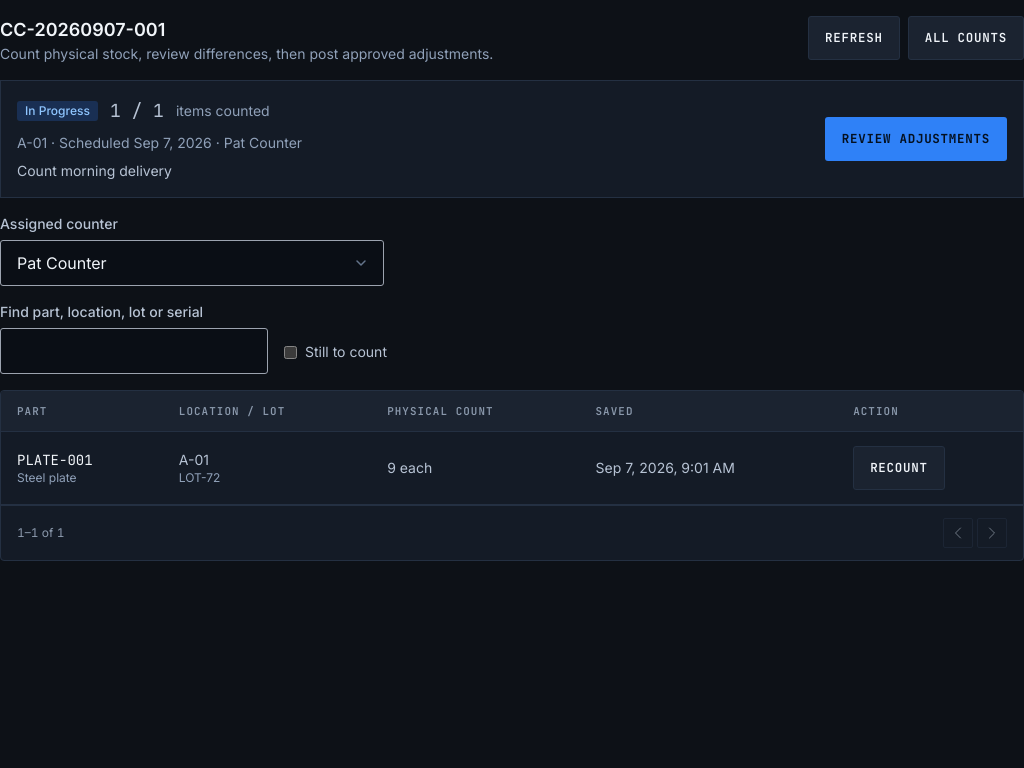
Test: requires explicit variance review and returns to fresh data when stock changes
This screenshot has width=1024, height=768.
Click the button "Review adjustments" at (916, 139), box [825,117,1007,161]
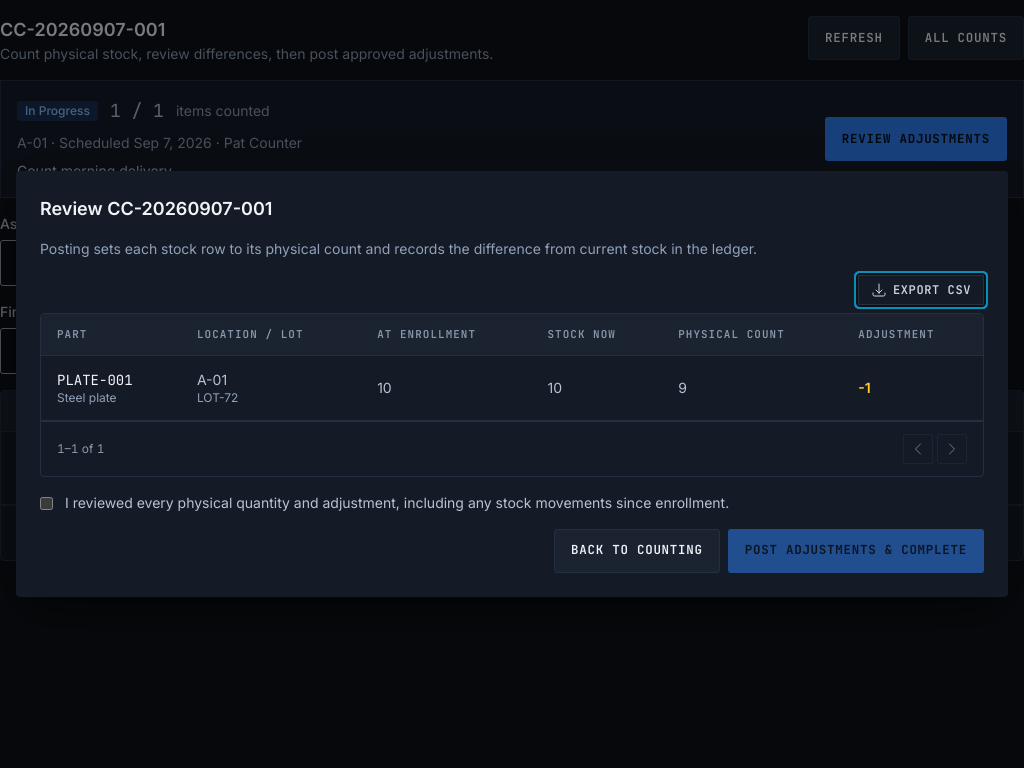
Result: the button "Post adjustments & complete" is disabled at [728,529,984,573]
Click the checkbox at (46, 503), box [40,497,53,510]
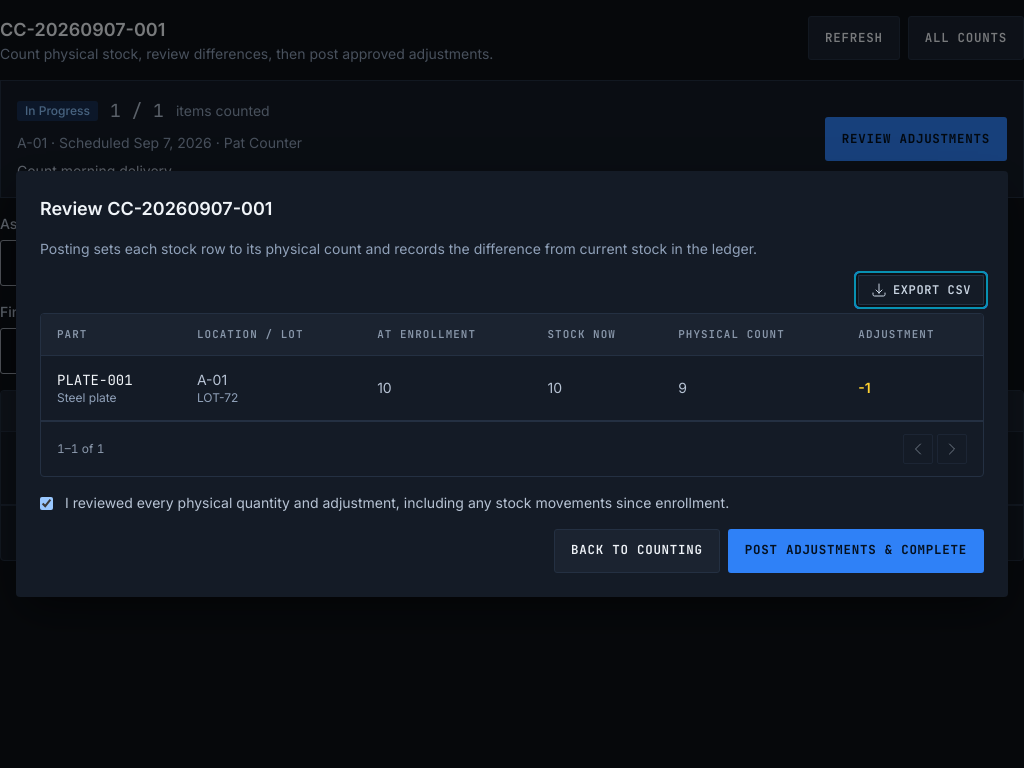
Click the button "Post adjustments & complete" at (856, 551), box [728,529,984,573]
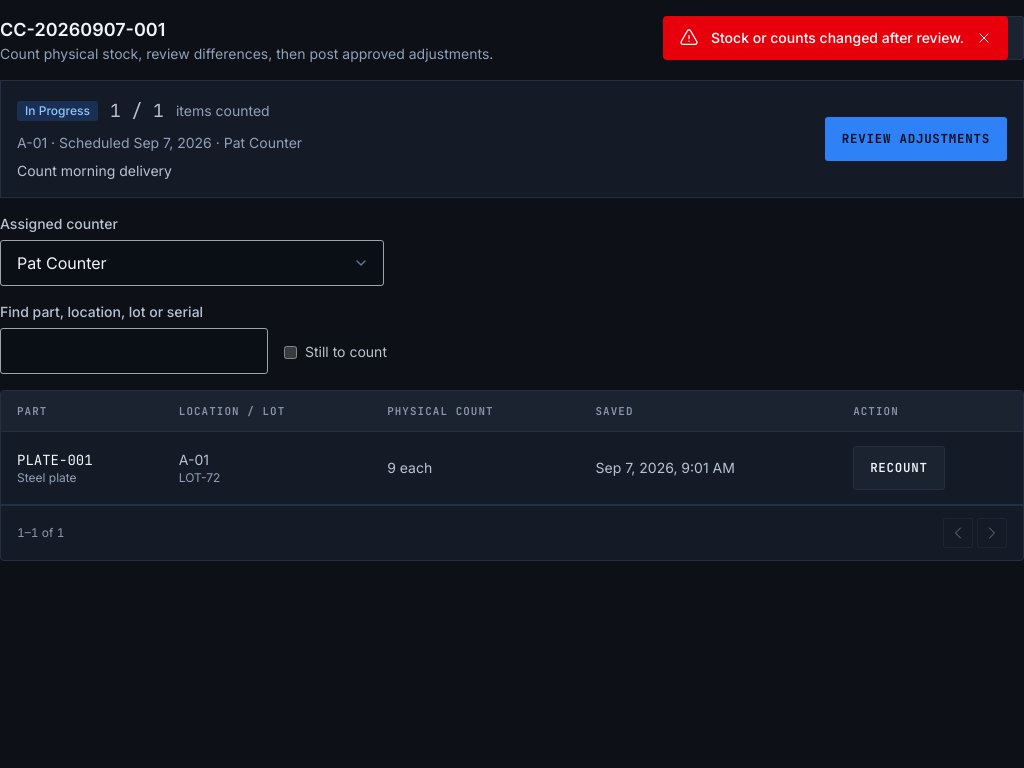
Result: the text "Stock or counts changed after review." is shown at [711,28,964,48]
Result: the dialog is gone
